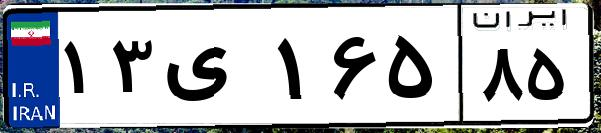1: (270, 28, 330, 110), (57, 26, 110, 100)
3: (110, 28, 158, 98)
5: (385, 28, 445, 110), (525, 38, 570, 115)
6: (330, 28, 385, 110)
8: (475, 38, 525, 113)
ی: (158, 20, 270, 120)
